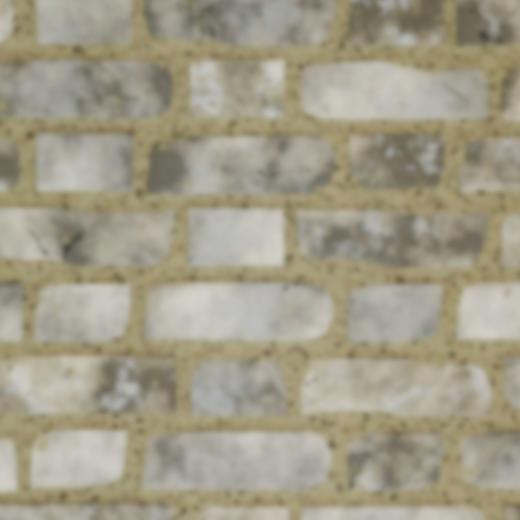brick: (142, 430, 330, 489), (297, 209, 487, 267), (301, 357, 490, 415), (143, 282, 332, 339), (146, 136, 334, 193), (300, 61, 487, 118), (0, 355, 175, 413), (0, 207, 173, 265), (0, 60, 172, 117), (176, 0, 334, 45), (189, 59, 284, 117), (31, 428, 126, 486), (347, 432, 442, 490), (36, 133, 131, 190), (188, 208, 283, 265), (347, 283, 441, 340), (35, 283, 129, 340), (191, 359, 285, 415), (349, 134, 444, 189), (349, 0, 445, 44), (36, 0, 131, 43), (456, 282, 519, 338), (460, 430, 519, 489), (458, 137, 519, 192), (0, 502, 172, 519), (301, 504, 484, 519), (145, 0, 212, 40), (478, 0, 519, 39), (196, 505, 288, 519), (0, 282, 22, 339), (456, 0, 484, 44), (0, 137, 19, 190), (501, 65, 519, 120), (501, 213, 519, 266), (503, 355, 519, 408), (0, 439, 16, 490), (502, 5, 519, 44), (0, 0, 13, 41), (504, 505, 519, 519), (347, 466, 350, 485), (309, 283, 321, 286)
crack: (155, 0, 216, 39), (468, 0, 519, 44), (259, 365, 285, 400), (347, 451, 370, 490), (62, 227, 85, 262), (26, 227, 48, 258), (300, 389, 329, 408), (280, 281, 324, 293), (494, 176, 519, 181), (187, 255, 193, 265)
